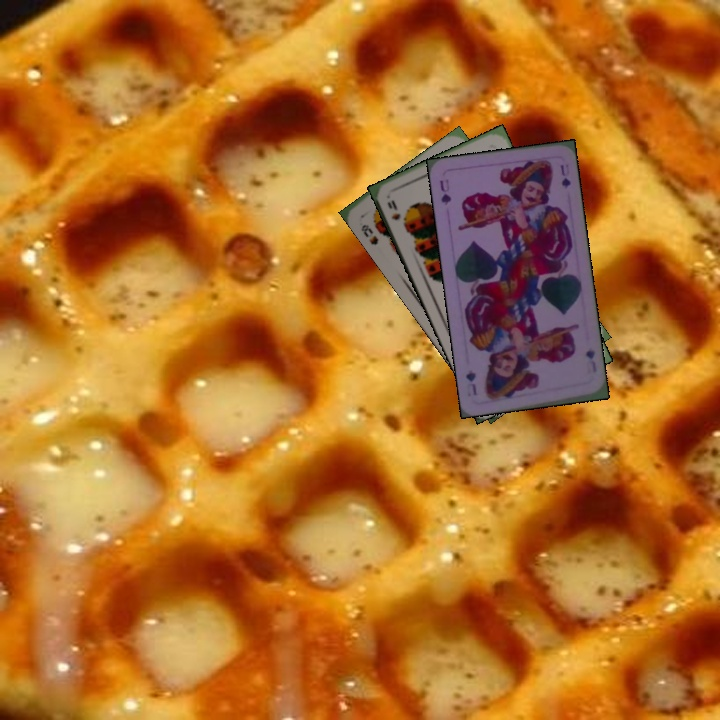GU: (435, 175, 454, 208), (582, 344, 599, 375)
S8: (357, 220, 381, 248)
S9: (383, 196, 409, 231)
